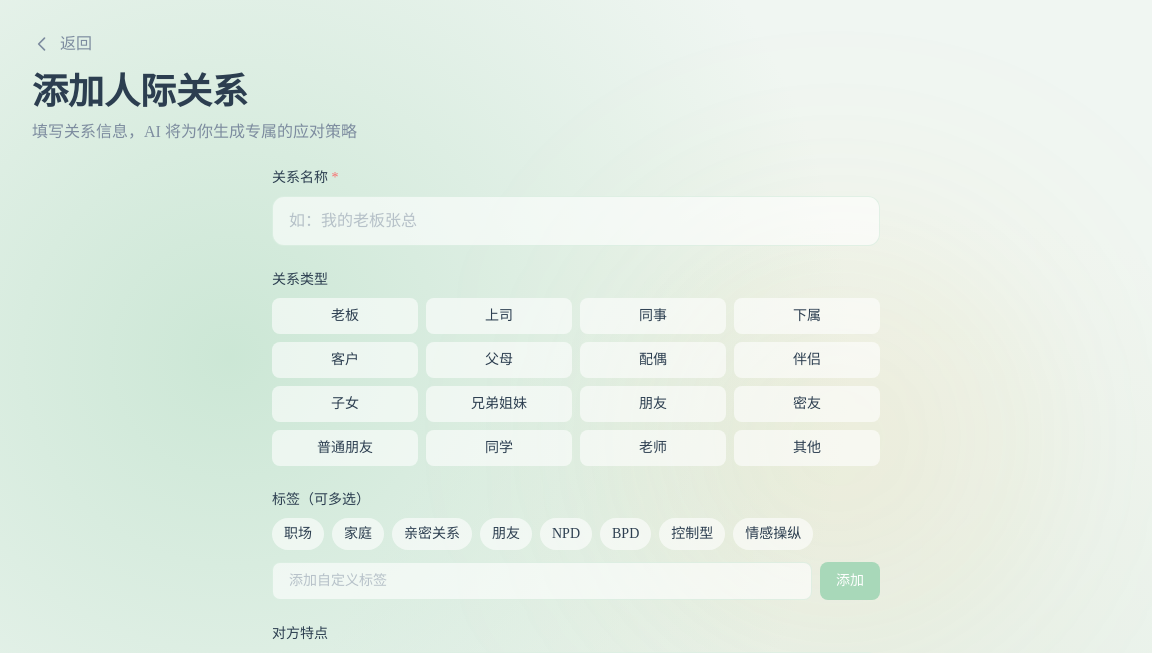
Test: NewRelationPage form semantics › 自定义标签输入和移除标签按钮都有可读名称
Check: the field labelled "自定义标签" is shown, box [272,562,812,600]
Click the button "职场": [298, 534] box [272,518,324,550]
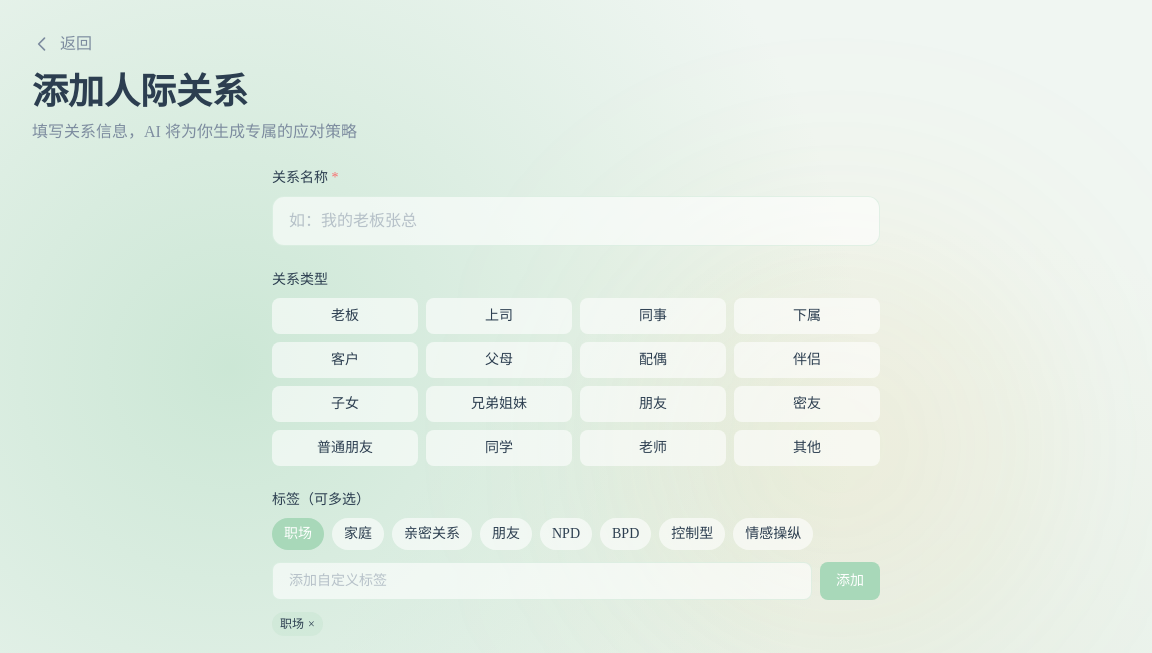
Check: the button named "移除标签 职场" is shown, box [308,616,315,632]
